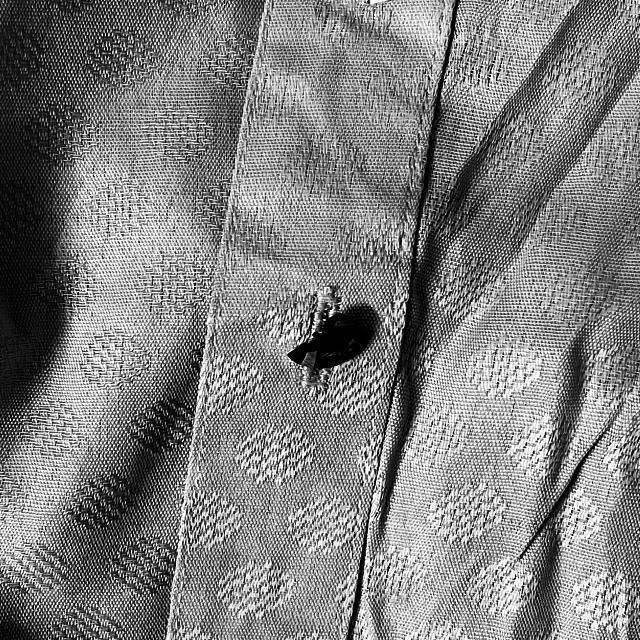Broken_button: (273, 303, 372, 381)
